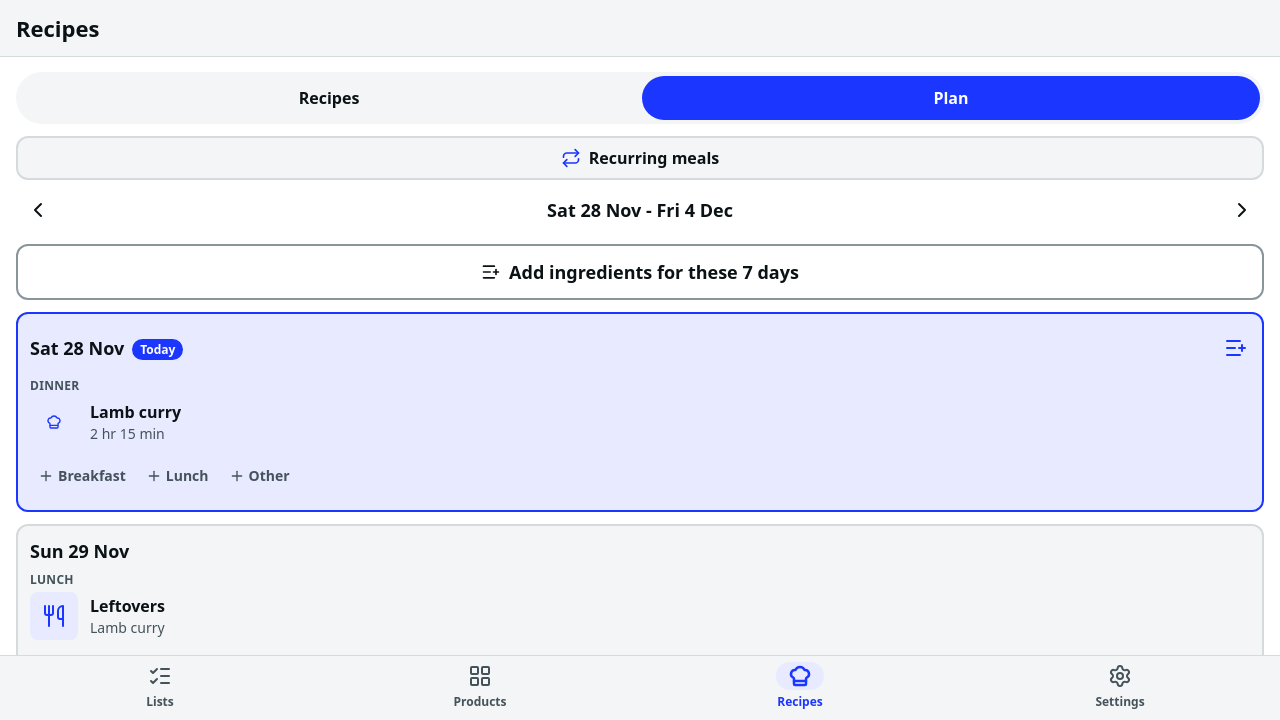
Recurring meals screen › lists rules by weekday with a summary and hides the tab bar
Click the link "Recurring meals": (640, 158) [16,136,1264,180]
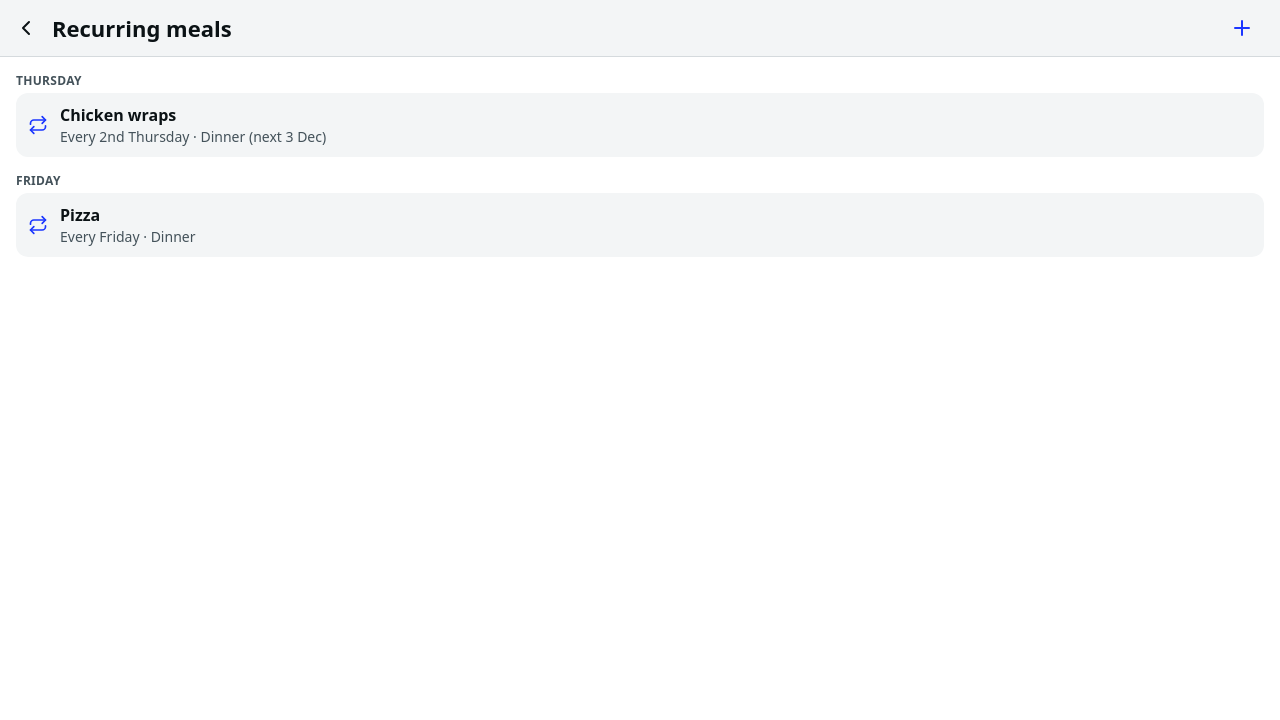
Check: the heading "Recurring meals" is shown, box [52,13,232,43]
Check: the text "Every Friday · Dinner" is shown, box [60,227,196,246]
Check: the text "Every 2nd Thursday · Dinner (next 3 Dec)" is shown, box [60,127,326,146]
